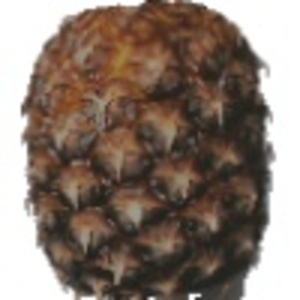abacaxi: (17, 2, 275, 289)
